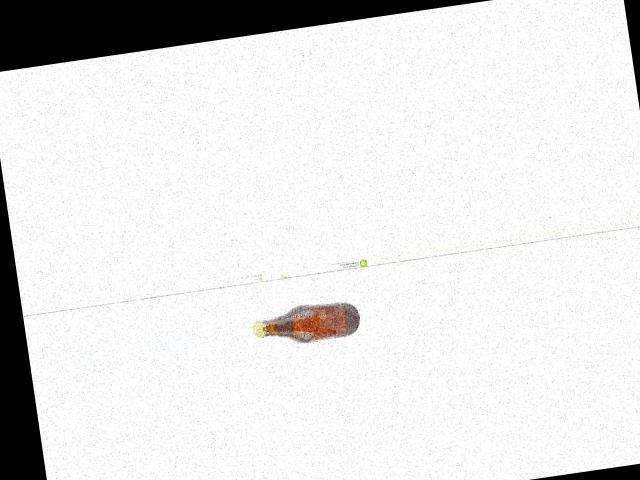beer: (250, 297, 361, 349)
